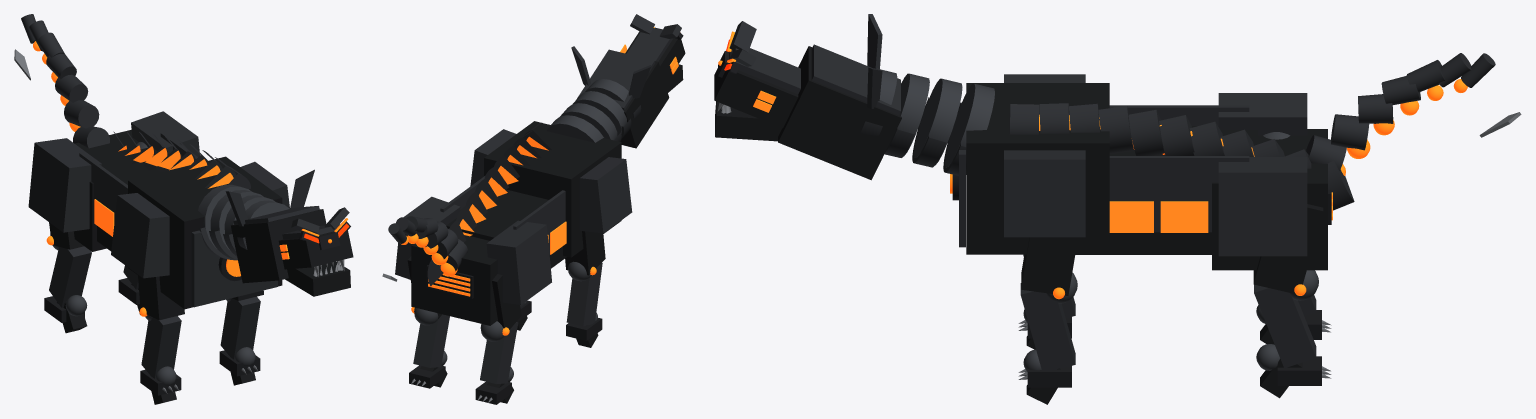
The model's file is fast.glb.
3 renders of one model, left to right at view 1: azimuth 30°, elevation 25°; view 2: azimuth 150°, elevation 25°; view 3: azimuth 270°, elevation 25°, orthographic. The views are drawn at different scales.
Parts seen in each view (by area): view 1: chest, haunch_cowl_l, shoulder_cowl_l, tail, skull, neck, chest_plate, leg_fl_shin, leg_fr_shin, leg_bl_shin, haunch_cowl_r, upper_jaw (+19 smaller); view 2: chest, hip, haunch_cowl_l, neck, shoulder_cowl_l, tail, belly, skull, skull_plate, leg_fl_shin, leg_bl_shin, leg_br_shin (+19 smaller); view 3: chest, haunch_cowl_r, neck, skull, shoulder_cowl_r, tail, rib_plate_r, hip, haunch_cowl_l, leg_br_shin, leg_fr_shin, leg_fr_thigh (+20 smaller).
Part boxes in pixels (left/top/right/bottom): chest: left=128, top=156, right=282, bottom=309; haunch_cowl_l: left=28, top=138, right=101, bottom=232; shoulder_cowl_l: left=111, top=193, right=169, bottom=278; tail: left=21, top=14, right=109, bottom=148; skull: left=231, top=209, right=326, bottom=283; neck: left=198, top=184, right=289, bottom=260; chest_plate: left=191, top=230, right=277, bottom=307; leg_fl_shin: left=141, top=316, right=181, bottom=378; leg_fr_shin: left=220, top=296, right=260, bottom=359; leg_bl_shin: left=49, top=246, right=91, bottom=307; haunch_cowl_r: left=131, top=111, right=199, bottom=156; upper_jaw: left=278, top=229, right=353, bottom=269; chest: left=484, top=121, right=621, bottom=257; hip: left=411, top=235, right=497, bottom=325; haunch_cowl_l: left=486, top=220, right=551, bottom=304; neck: left=546, top=79, right=641, bottom=142; shoulder_cowl_l: left=579, top=157, right=632, bottom=233; tail: left=388, top=216, right=467, bottom=276; belly: left=446, top=189, right=566, bottom=268; skull: left=576, top=61, right=669, bottom=148; skull_plate: left=578, top=49, right=655, bottom=110; leg_fl_shin: left=566, top=263, right=602, bottom=326; leg_bl_shin: left=480, top=322, right=518, bottom=383; leg_br_shin: left=413, top=314, right=449, bottom=367; chest: left=966, top=83, right=1109, bottom=254; haunch_cowl_r: left=1218, top=157, right=1307, bottom=256; neck: left=860, top=68, right=994, bottom=175; skull: left=778, top=46, right=901, bottom=180; shoulder_cowl_r: left=1004, top=150, right=1085, bottom=237; tail: left=1306, top=53, right=1495, bottom=175; rib_plate_r: left=1109, top=156, right=1249, bottom=232; hip: left=1212, top=129, right=1327, bottom=270; haunch_cowl_l: left=1218, top=93, right=1307, bottom=135; leg_br_shin: left=1254, top=284, right=1316, bottom=368; leg_fr_shin: left=1020, top=283, right=1075, bottom=370; leg_fr_thigh: left=1021, top=237, right=1077, bottom=295.
Bounding box in the file's own units: 0.6477 × 1.1 × 2.37.
